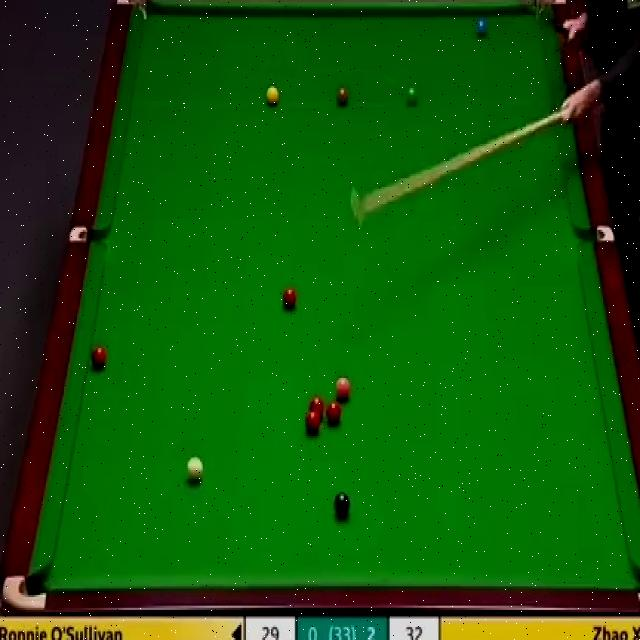black-ball: (333, 493, 351, 513)
blue-ball: (476, 18, 487, 41)
brown-ball: (335, 88, 350, 106)
green-ball: (405, 84, 420, 109)
pink-ball: (334, 375, 352, 401)
red-ball: (89, 345, 108, 371), (326, 401, 342, 426), (310, 395, 324, 421), (280, 288, 298, 308), (306, 410, 320, 432)
white-ball: (185, 454, 204, 483)
yellow-ball: (265, 85, 280, 107)
